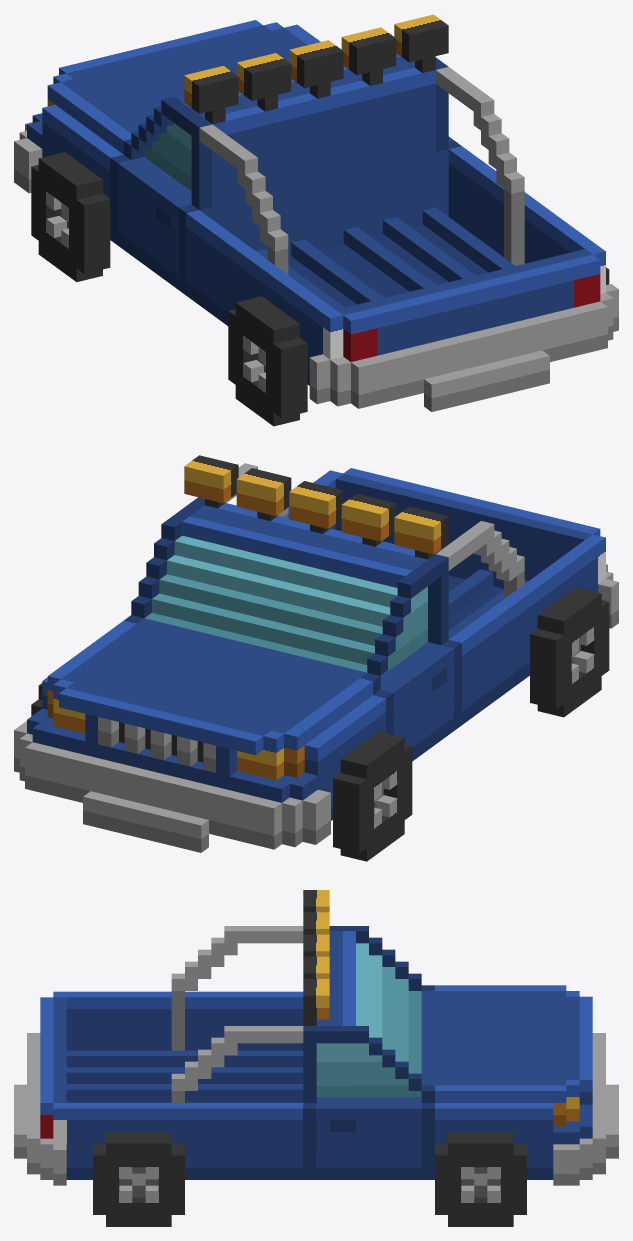
Rendered from rancher.dae.
The picture shows the model from 3 angles, top to bottom: view 1: azimuth 30°, elevation 25°; view 2: azimuth 150°, elevation 25°; view 3: azimuth 270°, elevation 25°; orthographic projection. The views are drawn at different scales.
Parts seen in each view (by area): view 1: rancher.chasis_blue, rancher.back_mudguard, rancher.lights, rancher.bars, rancher.back_left_wheel, rancher.front_left_wheel, rancher.front_mudguard; view 2: rancher.chasis_blue, rancher.front_mudguard, rancher.lights, rancher.front_left_wheel, rancher.back_left_wheel, rancher.bars, rancher.back_mudguard; view 3: rancher.chasis_blue, rancher.back_right_wheel, rancher.front_right_wheel, rancher.bars, rancher.front_mudguard, rancher.back_mudguard, rancher.lights.
Boxes of the visible parts, left/top/right/bottom form: rancher.chasis_blue: left=27, top=20, right=605, bottom=385; rancher.back_mudguard: left=309, top=284, right=618, bottom=411; rancher.lights: left=184, top=14, right=448, bottom=124; rancher.bars: left=199, top=67, right=524, bottom=274; rancher.back_left_wheel: left=228, top=296, right=307, bottom=426; rancher.front_left_wheel: left=31, top=152, right=110, bottom=281; rancher.front_mudguard: left=14, top=122, right=42, bottom=193; rancher.chasis_blue: left=27, top=468, right=605, bottom=820; rancher.front_mudguard: left=14, top=721, right=330, bottom=852; rancher.lights: left=184, top=455, right=448, bottom=559; rancher.front_left_wheel: left=333, top=731, right=412, bottom=861; rancher.back_left_wheel: left=530, top=587, right=609, bottom=717; rancher.bars: left=225, top=463, right=524, bottom=598; rancher.back_mudguard: left=598, top=564, right=618, bottom=628; rancher.chasis_blue: left=40, top=926, right=592, bottom=1179; rancher.back_right_wheel: left=93, top=1132, right=184, bottom=1226; rancher.front_right_wheel: left=435, top=1132, right=526, bottom=1226; rancher.bars: left=171, top=926, right=303, bottom=1102; rancher.front_mudguard: left=553, top=1033, right=618, bottom=1185; rancher.back_mudguard: left=14, top=1033, right=66, bottom=1185; rancher.lights: left=303, top=890, right=329, bottom=1025.
Size of the model in its own units: 2.5 by 4.6 by 1.8.
Materials: 1 (1 with a texture image).
